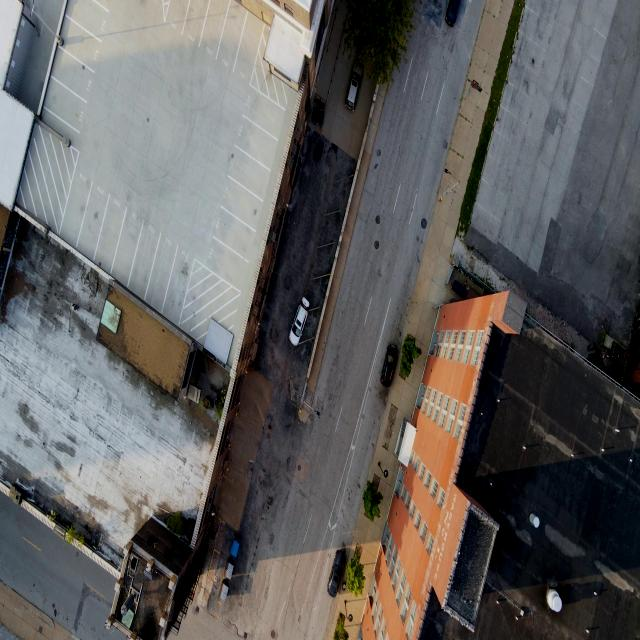Car: (279, 278, 318, 364), (338, 42, 378, 125), (372, 331, 408, 407), (444, 0, 464, 44)
